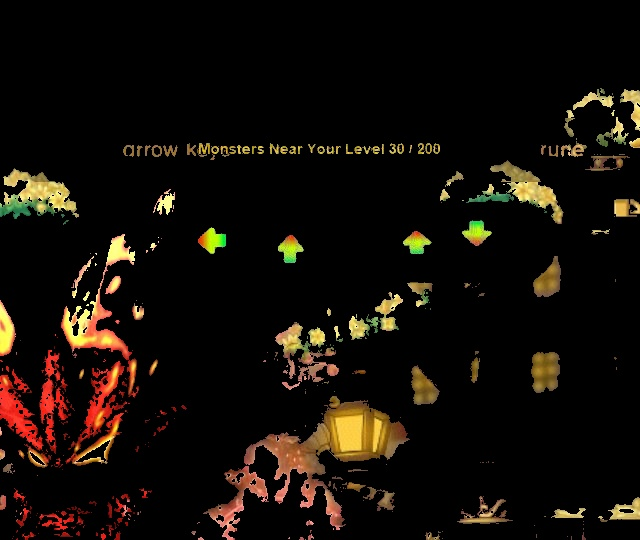down: (454, 212, 496, 251)
left: (193, 220, 236, 261)
up: (397, 222, 437, 264), (270, 232, 309, 271)
